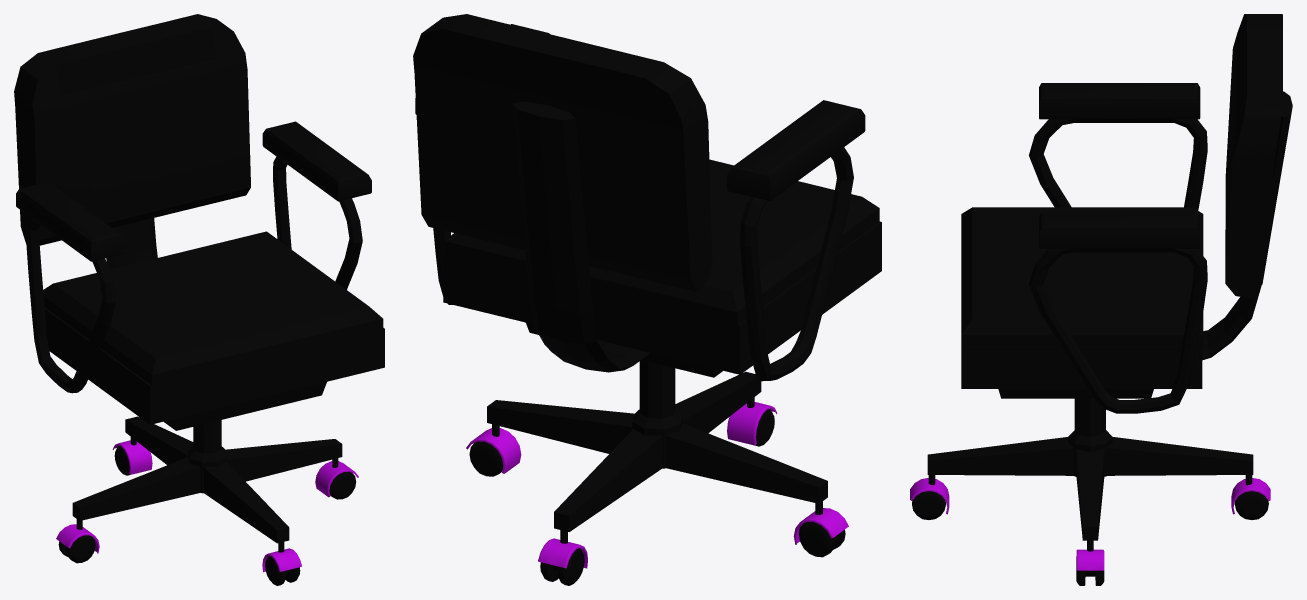
File: chair.fbx
3 renders of one model, left to right at view 1: azimuth 30°, elevation 25°; view 2: azimuth 150°, elevation 25°; view 3: azimuth 270°, elevation 25°, orthographic. The views are drawn at different scales.
Parts seen in each view (by area): view 1: chair; view 2: chair; view 3: chair.
Boxes of the visible parts, x1,y1,x2,y2 form: chair: [14, 14, 384, 585]; chair: [413, 14, 881, 585]; chair: [910, 14, 1292, 585].
Bounding box in the file's own units: 2.23 × 3.14 × 2.37.
